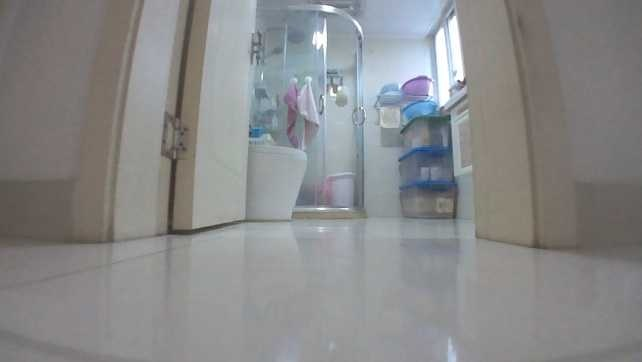door_anno: (105, 0, 262, 233)
door_sill: (292, 205, 369, 219)
toilet: (240, 141, 308, 221)
